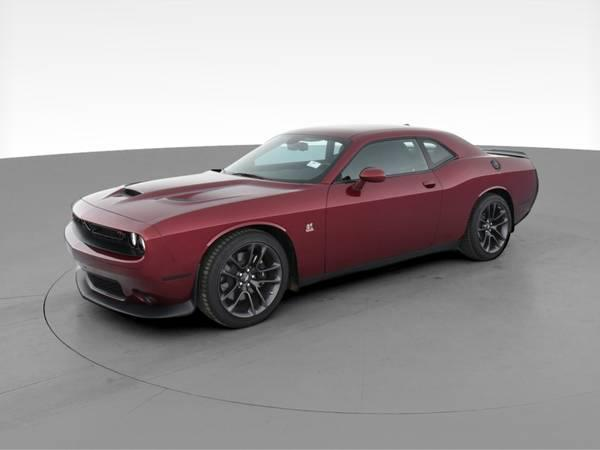Front_Bumper: (62, 234, 198, 319)
Front_Fender: (144, 185, 331, 289)
Front_Left_Door: (326, 172, 444, 278)
Front_Left_Window: (332, 136, 457, 185)
Front_Windshield: (220, 133, 351, 181)
Grille: (63, 207, 124, 259)
Hood: (71, 169, 323, 230)
Left_Headlight: (121, 228, 150, 260)
Rear_Fender: (435, 155, 540, 252)
Roof: (284, 125, 486, 185)
Wheel: (199, 232, 292, 333), (470, 197, 515, 262)
